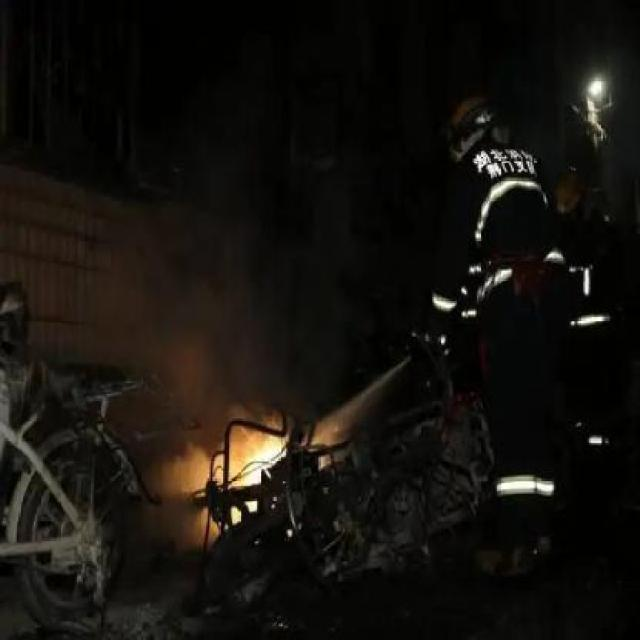Fire: (231, 426, 287, 482)
Smoke: (171, 222, 337, 430)
